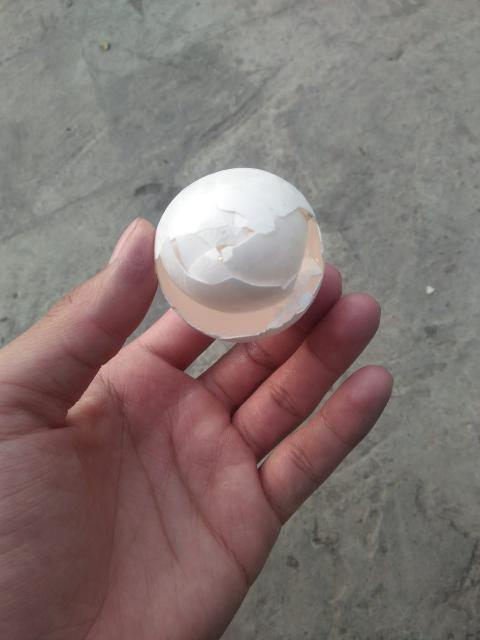Roto: (153, 166, 325, 343)
